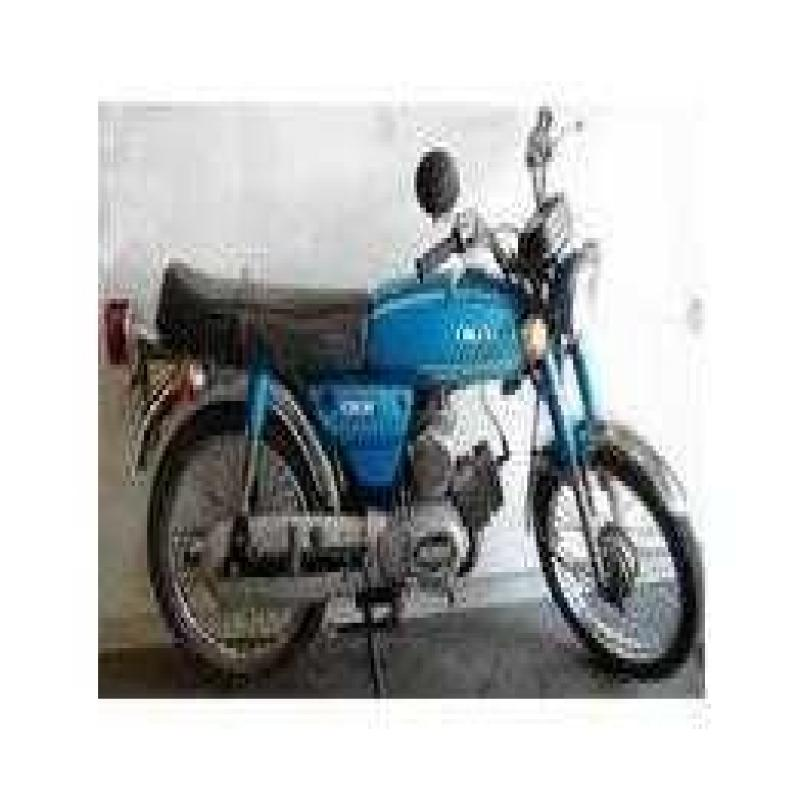bike: (110, 108, 714, 681)
